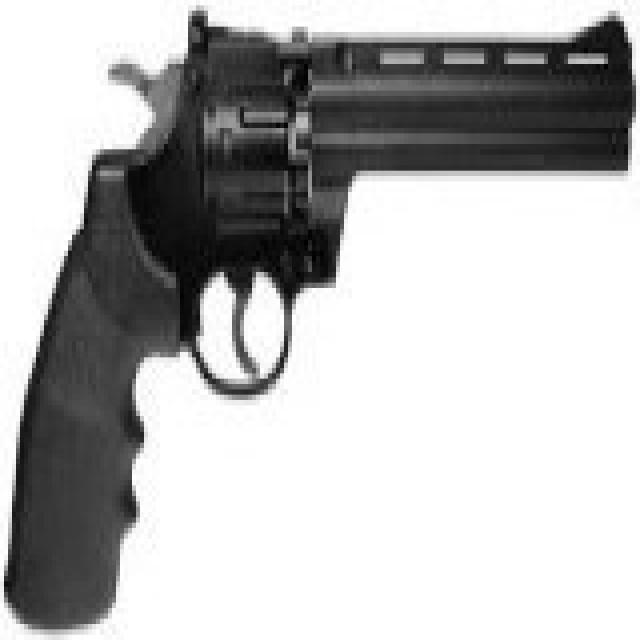Gun: (8, 19, 632, 592)
